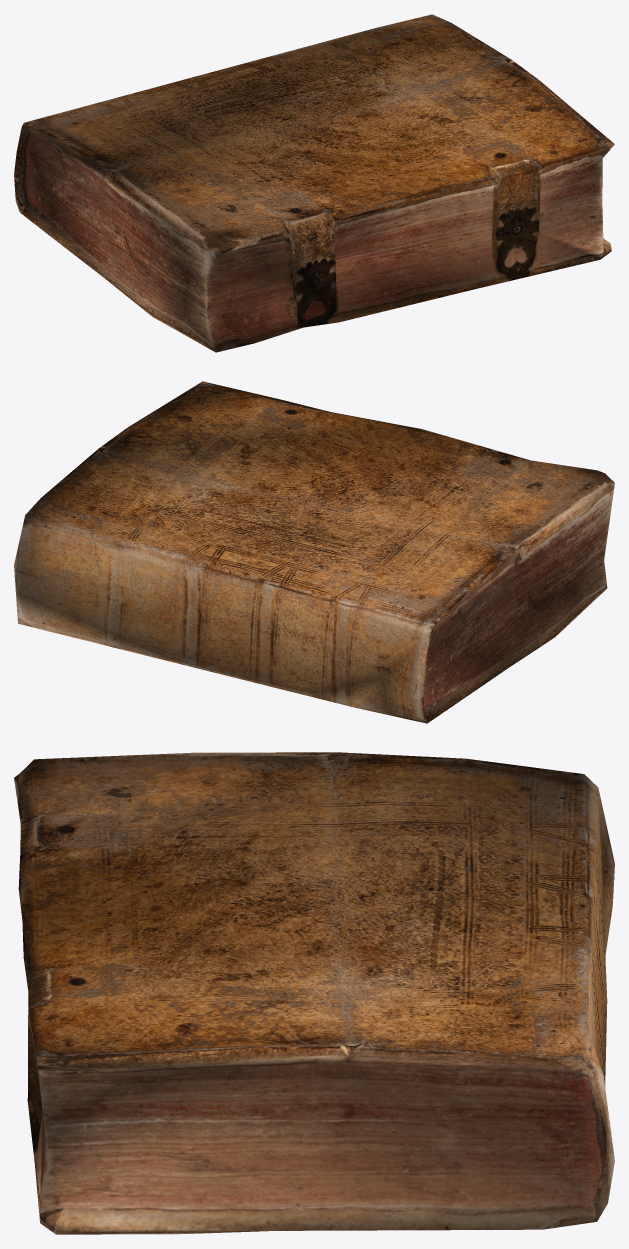
Rendered from Stained_Brown_Book_vf1fdaaiw_Low.gltf.
The picture shows the model from 3 angles, top to bottom: view 1: azimuth 30°, elevation 25°; view 2: azimuth 150°, elevation 25°; view 3: azimuth 270°, elevation 25°; orthographic projection. The views are drawn at different scales.
Visible parts, largest first — view 1: vf1fdaaiw_LOD0_TIER3_000; view 2: vf1fdaaiw_LOD0_TIER3_000; view 3: vf1fdaaiw_LOD0_TIER3_000.
Part boxes in pixels (box(x1,y1,x2,y2)): vf1fdaaiw_LOD0_TIER3_000: box(14, 14, 614, 352); vf1fdaaiw_LOD0_TIER3_000: box(14, 381, 614, 723); vf1fdaaiw_LOD0_TIER3_000: box(14, 752, 614, 1234).
Size of the model in its own units: 0.2503 by 0.0706 by 0.2051.
Materials: 1 (1 with a texture image).
